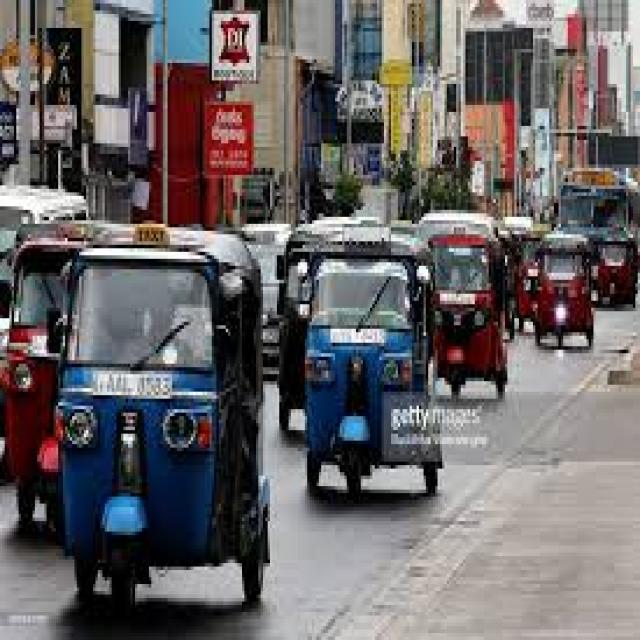bus: (561, 168, 626, 227)
three wheeler: (56, 227, 268, 612), (305, 241, 440, 500), (5, 220, 93, 542), (428, 238, 505, 395), (279, 227, 321, 430), (535, 234, 591, 346), (589, 231, 633, 308), (517, 234, 540, 332)
